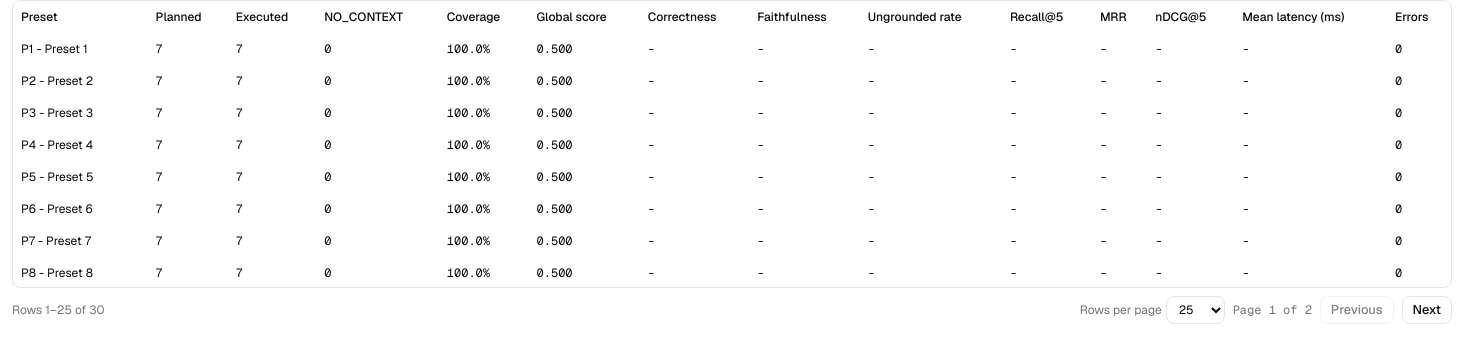
Test case: RagComparisonTable › paginates preset comparison rows
The image size is (1464, 341).
Expected: the text "P1 - Preset 1" is shown, [21, 41, 88, 57]
Expected: the text "P30 - Preset 30" is not shown
Click the button with test id "lab-rag-comparison-pagination-next" at (1427, 310), box [1402, 296, 1452, 324]
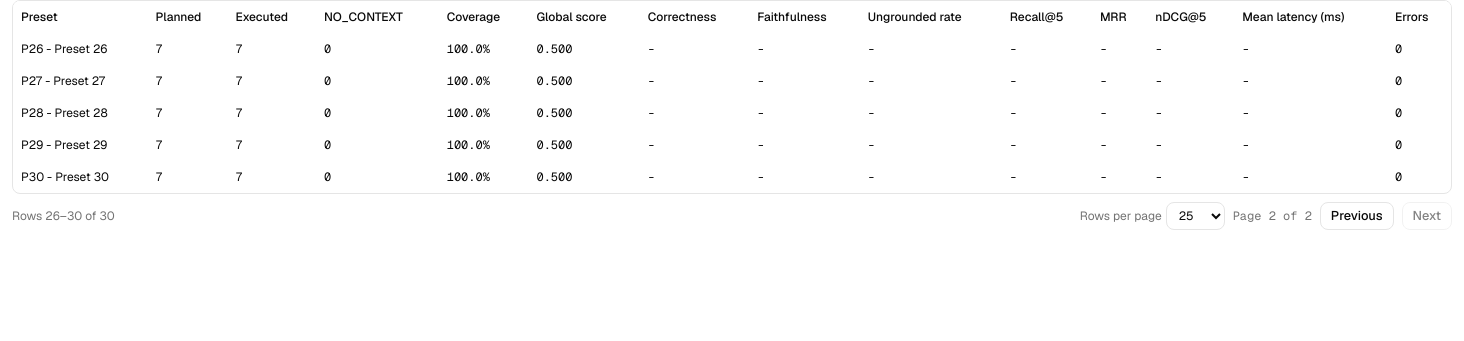
Expected: the text "P30 - Preset 30" is shown, [21, 169, 109, 185]
